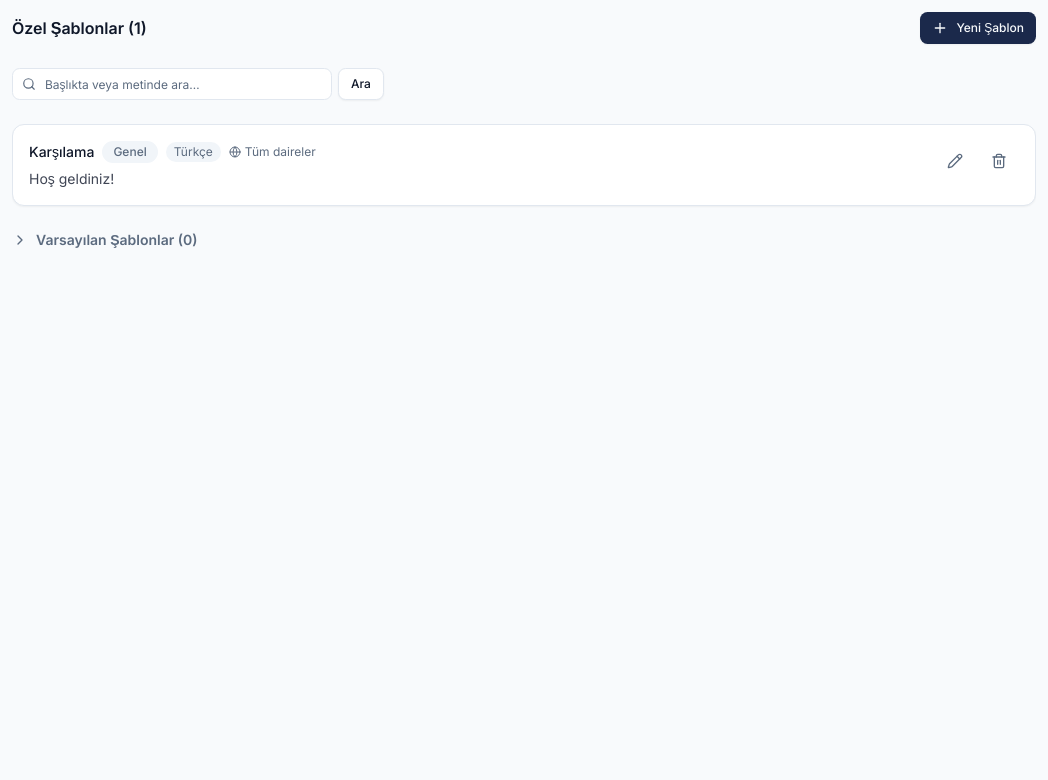
şablon düzenleme — tam metin ayrı okumadan, sürüm ön şartı (H1) › 🚨 'Düzenle' TAM metni GET [id]'den alır; PATCH o okumanın sürümünü gönderir
Later steps or results of the test are not shown.
Click the button named "Düzenle" at (955, 161), box x1=935 y1=141 x2=975 y2=181
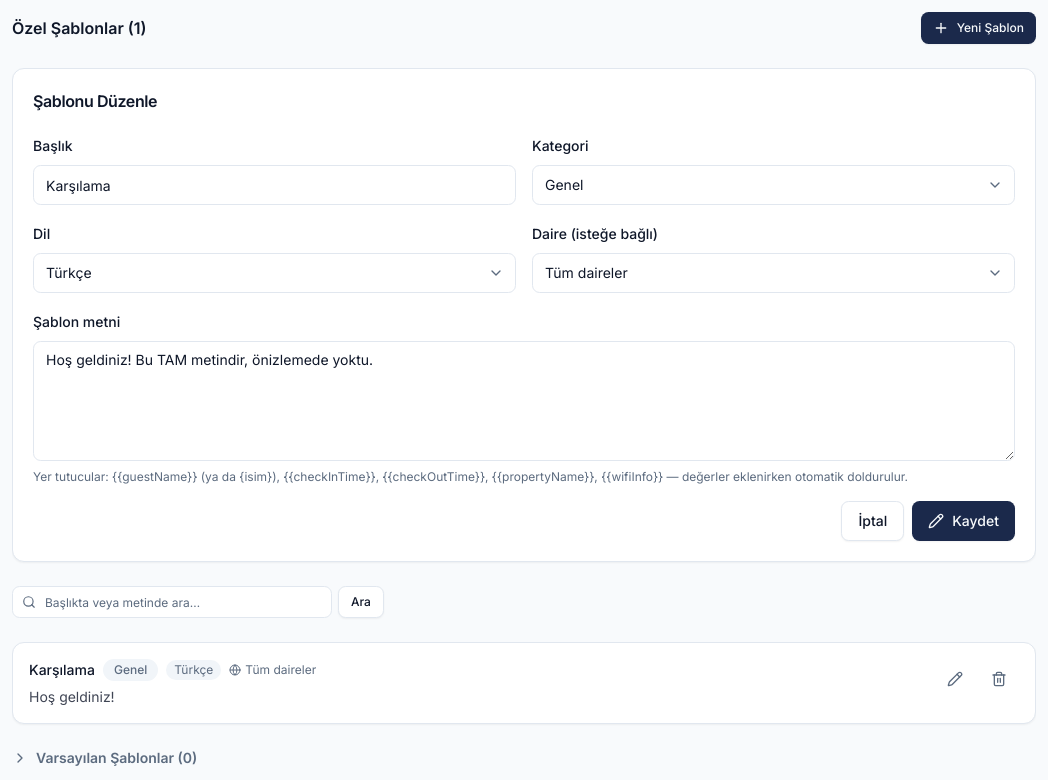
Result: the text box labelled "Şablon metni" holds "Hoş geldiniz! Bu TAM metindir, önizlemede yoktu." at x1=33 y1=341 x2=1015 y2=461
